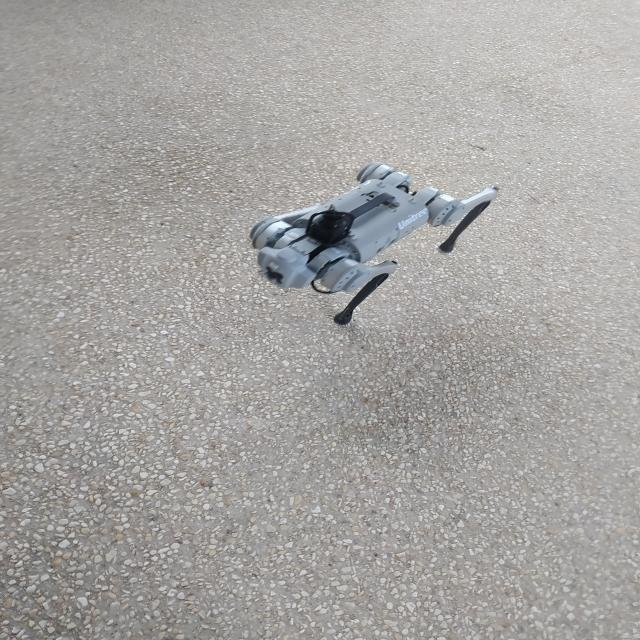unitree-go1-robot: (235, 148, 514, 337)
